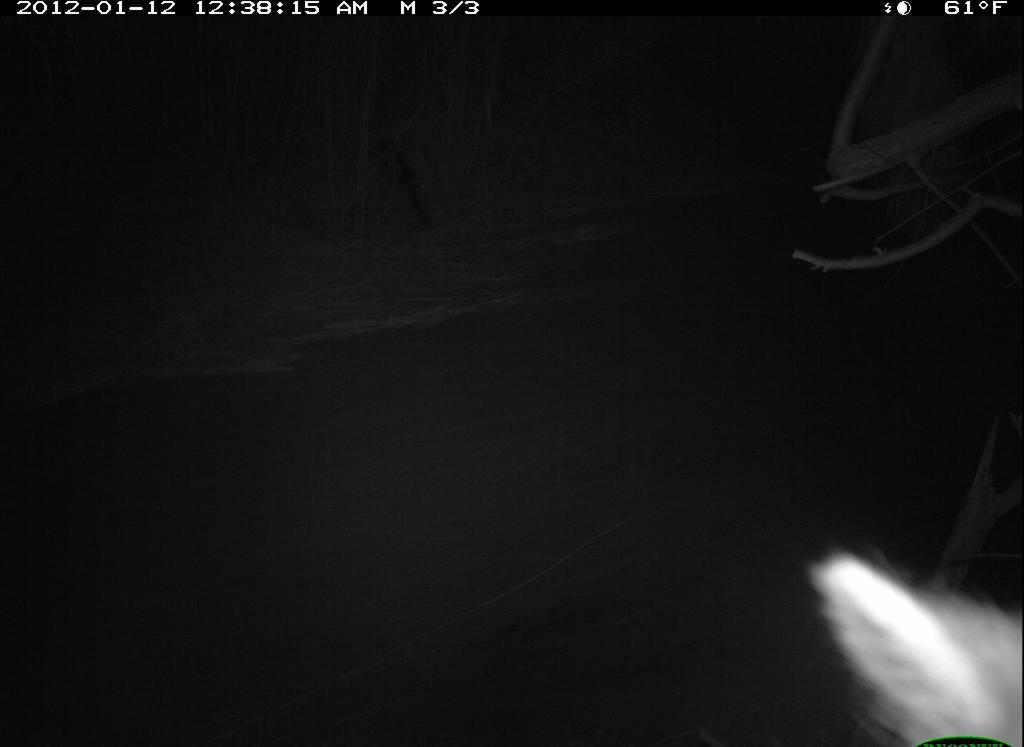raccoon: (788, 509, 1024, 747)
